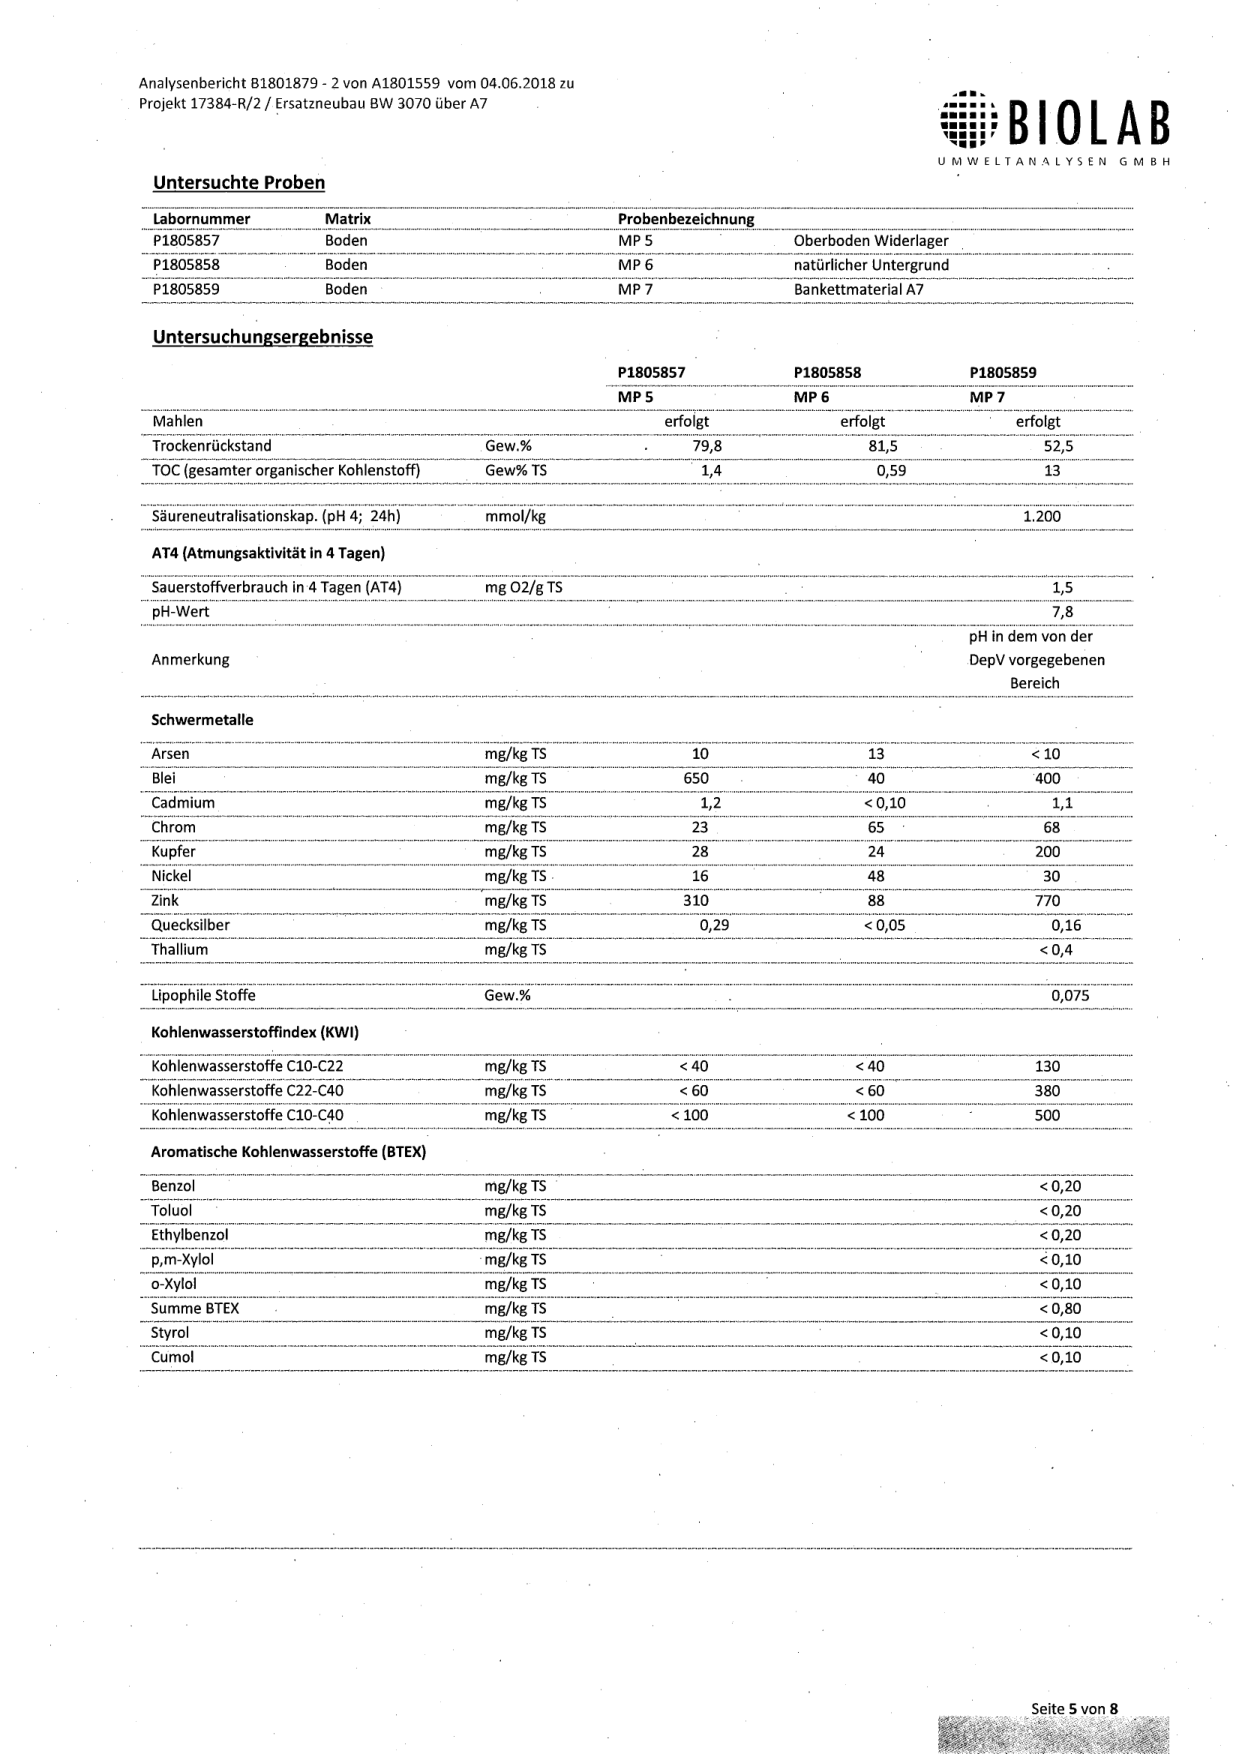table: (132, 735, 1143, 1021), (140, 406, 1128, 631), (136, 1167, 1140, 1379), (132, 193, 1146, 317), (132, 1048, 1147, 1138)
